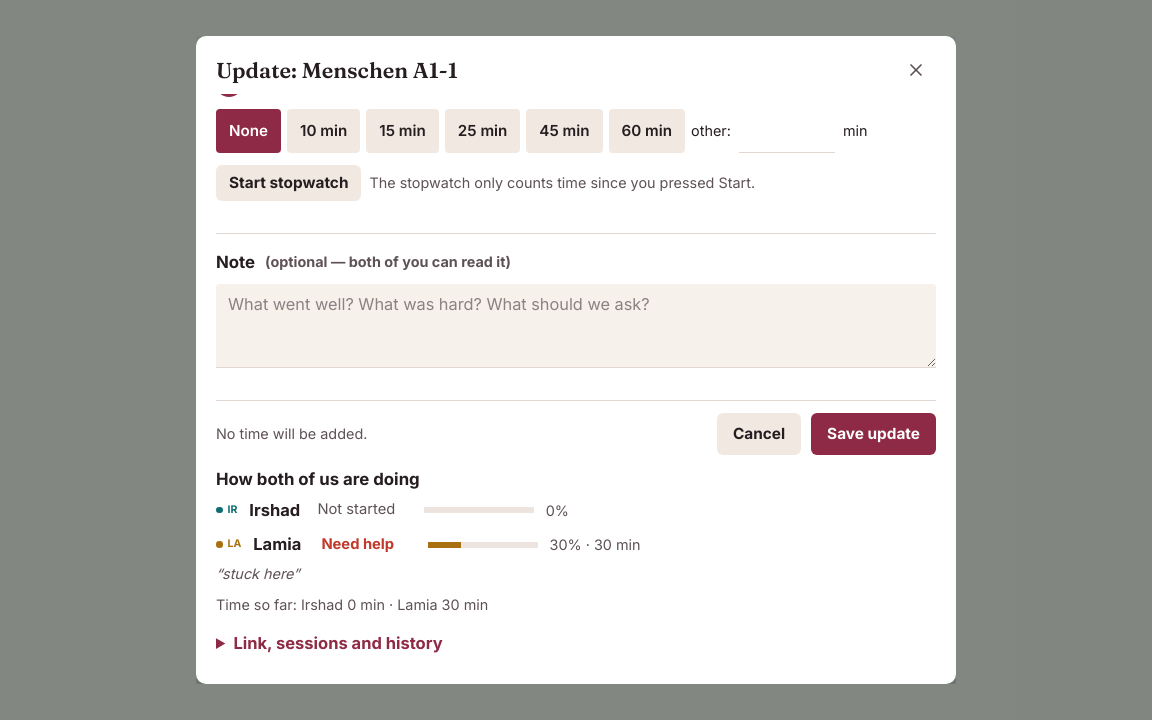
Test: the one-step update (progress + time) › shows both people in plain language, a Drive fallback when no link exists, and refuses an empty save
(page scrolled)
Expected: the text "Need help" is shown, x1=321 y1=535 x2=394 y2=553
Expected: the text "“stuck here”" is shown, x1=216 y1=565 x2=300 y2=582
Click the button "Save update": (874, 434) x1=811 y1=413 x2=936 y2=455
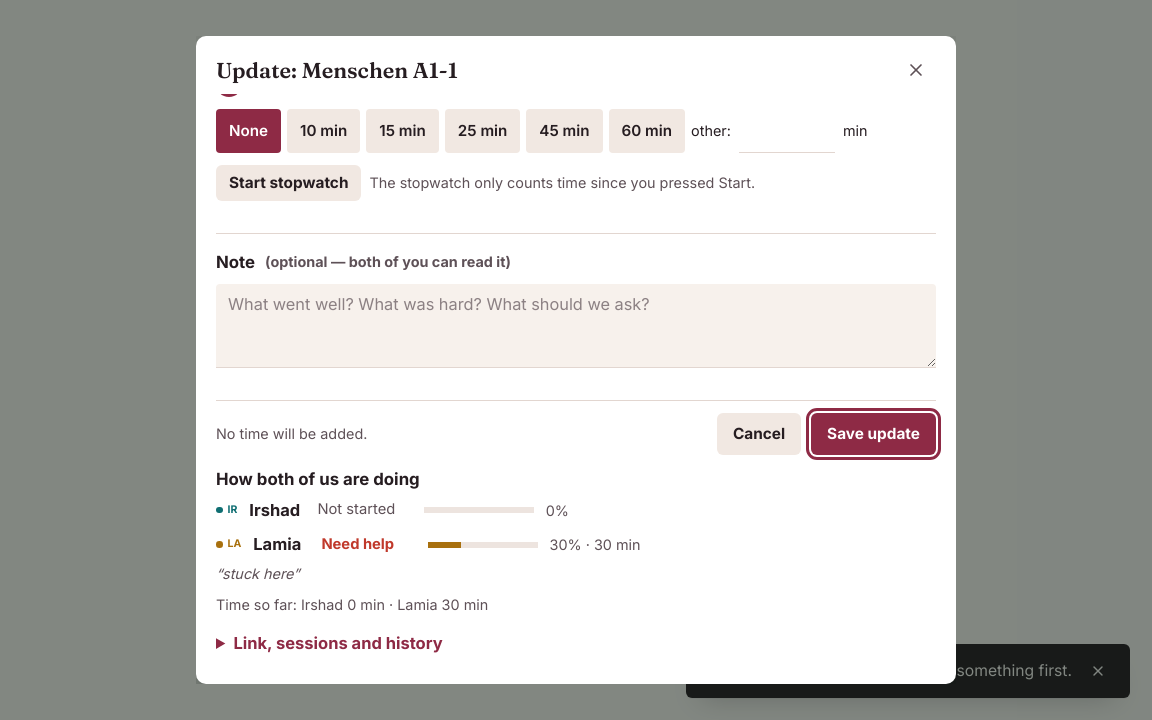
Expected: the text "Nothing to save yet — change something first." is shown, x1=730 y1=658 x2=1072 y2=684
